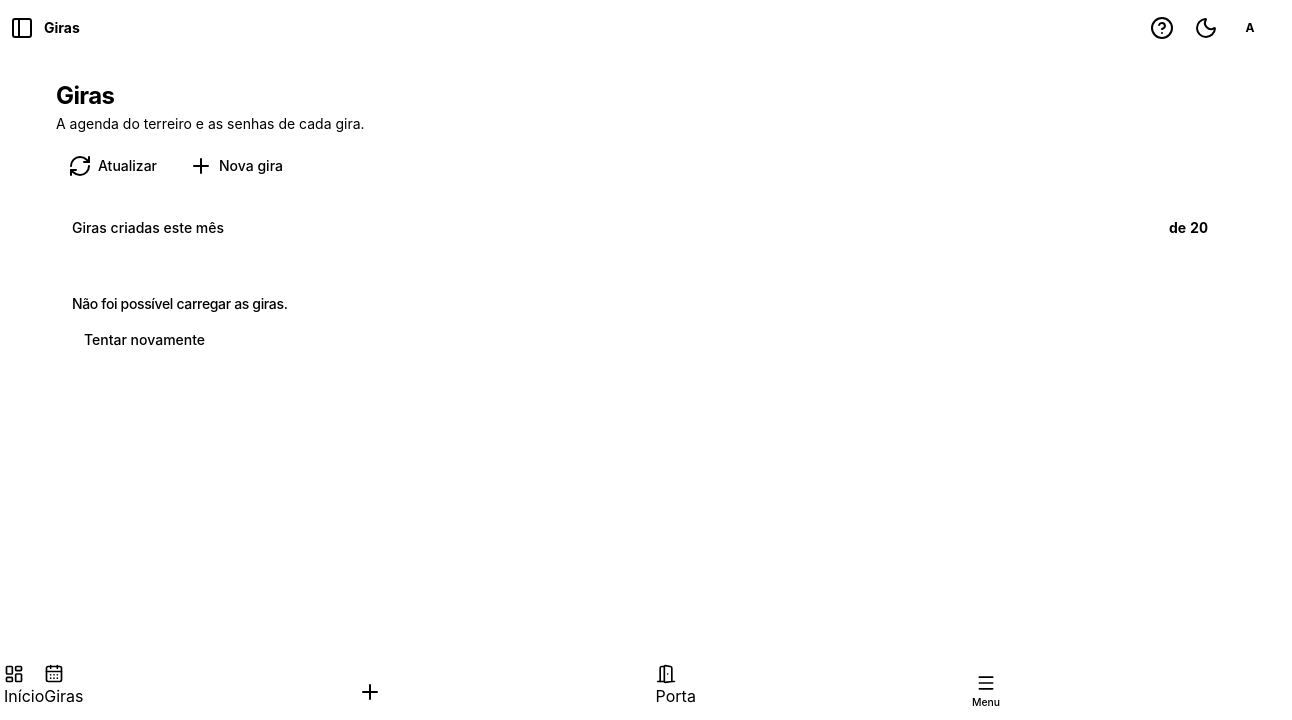
it: Admin Giras Page › falha ao carregar mostra erro com retry, não o empty state
Expected: the text "Não foi possível carregar as giras." is shown, 72,295 -> 288,312
What coordinates should you click on to do the following:
click the button "Tentar novamente"
I would click on:
 (145, 340)
Its box is 72,324 -> 217,356.
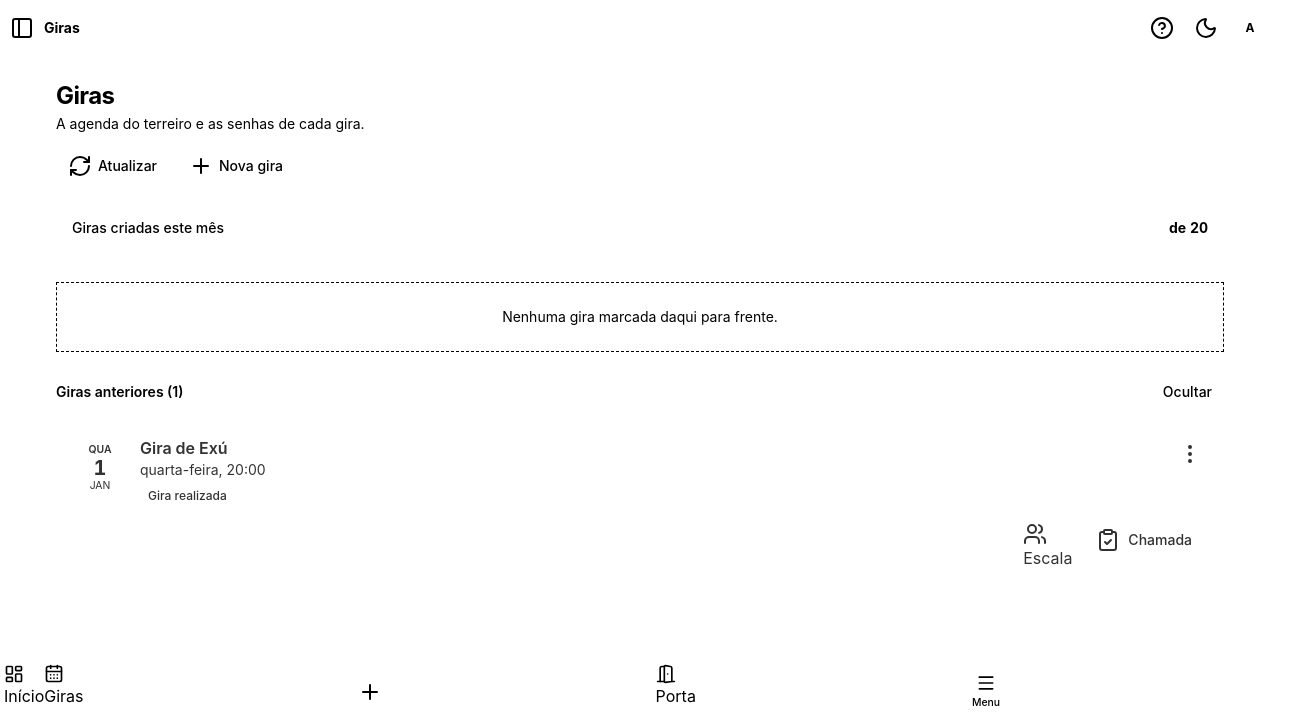
Expected: the heading "Gira de Exú" is shown, 140,438 -> 228,458
